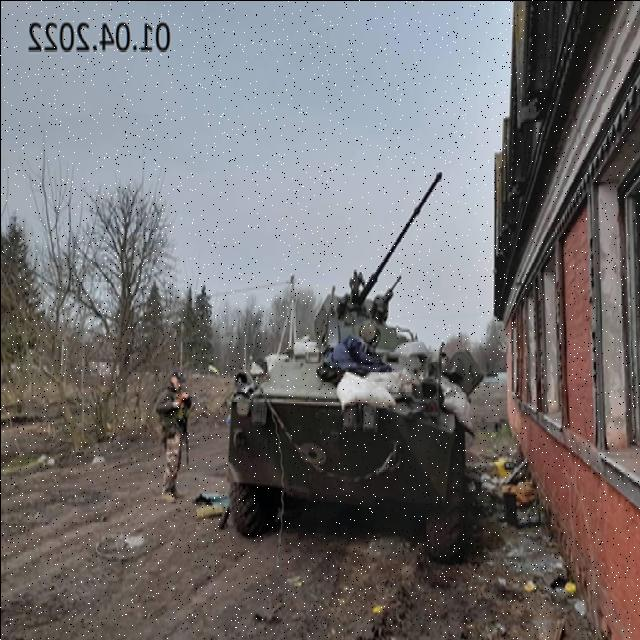APC-IFV: (222, 162, 476, 564)
